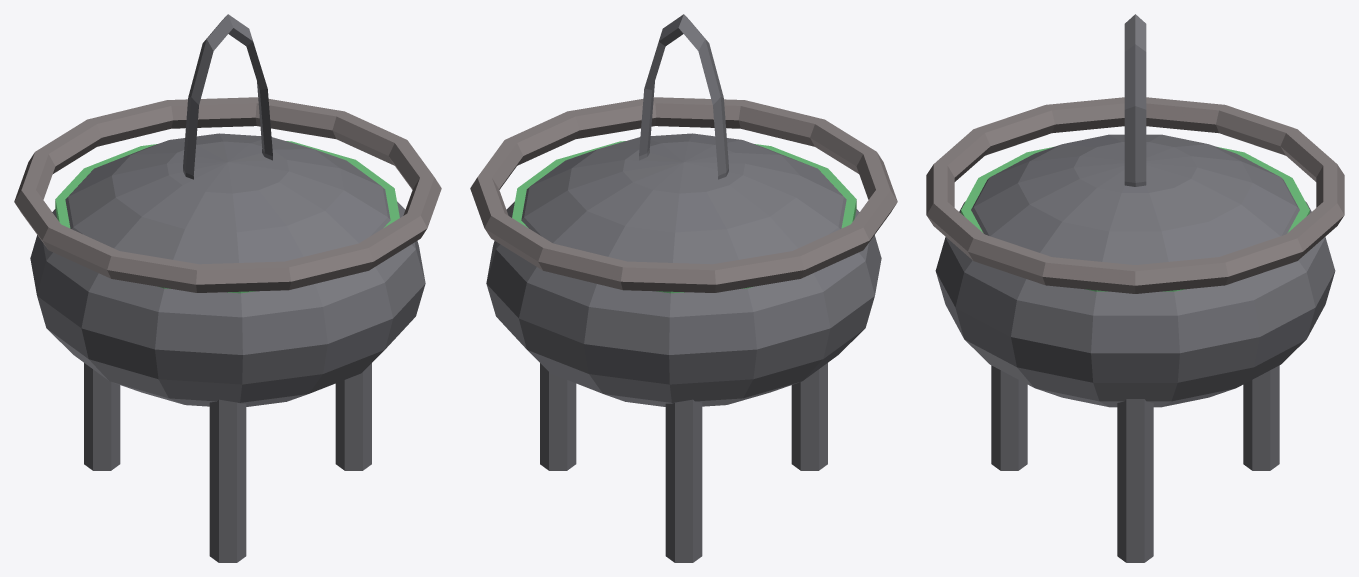
File: cauldron.dae
The picture shows the model from 3 angles, left to right: view 1: azimuth 30°, elevation 25°; view 2: azimuth 150°, elevation 25°; view 3: azimuth 270°, elevation 25°; orthographic projection.
Visible parts, largest first — view 1: Sphere, Torus.009, Cylinder.003, Torus.010, Cylinder.002, Cylinder.001, Cylinder; view 2: Sphere, Torus.009, Cylinder.002, Torus.010, Cylinder.003, Cylinder.001, Cylinder; view 3: Sphere, Torus.009, Cylinder.001, Torus.010, Cylinder.003, Cylinder.002, Cylinder.
Part boxes in pixels (x1,y1,x2,y2): Sphere: [30, 133, 425, 406]; Torus.009: [14, 97, 441, 292]; Cylinder.003: [209, 399, 246, 562]; Torus.010: [183, 14, 272, 179]; Cylinder.002: [84, 363, 120, 470]; Cylinder.001: [335, 363, 371, 470]; Cylinder: [55, 141, 399, 293]; Sphere: [486, 133, 881, 406]; Torus.009: [470, 97, 897, 292]; Cylinder.002: [665, 399, 702, 562]; Torus.010: [639, 14, 728, 179]; Cylinder.003: [791, 363, 827, 470]; Cylinder.001: [540, 363, 576, 470]; Cylinder: [512, 141, 856, 293]; Sphere: [935, 134, 1335, 407]; Torus.009: [926, 97, 1344, 293]; Cylinder.001: [1117, 399, 1153, 562]; Torus.010: [1124, 14, 1146, 186]; Cylinder.003: [991, 365, 1027, 470]; Cylinder.002: [1243, 365, 1279, 470]; Cylinder: [961, 147, 1309, 291].
Bounding box in the file's own units: 118 × 115 × 146.
